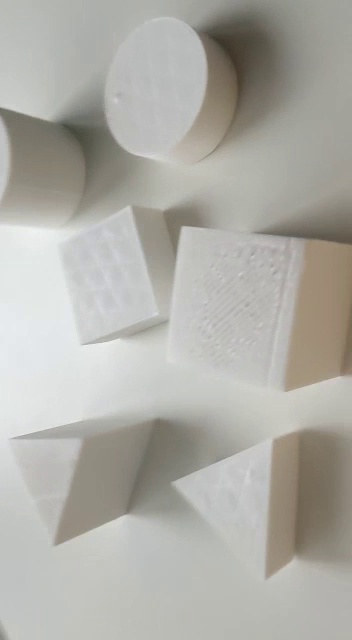Clyinder_short: (92, 13, 244, 171)
Cube: (162, 219, 352, 398)
Cube_short: (52, 202, 202, 348)
Cylinder: (1, 104, 90, 237)
Triangle: (5, 406, 153, 550)
Triangle_short: (167, 429, 307, 581)
